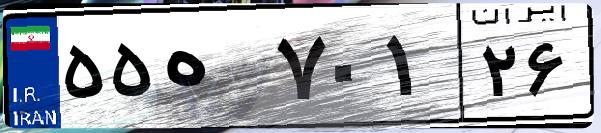0: (330, 28, 385, 110)
1: (385, 28, 445, 110)
2: (475, 38, 525, 113)
5: (57, 26, 110, 100), (110, 28, 158, 98)
6: (525, 38, 570, 115)
7: (270, 28, 330, 110)
ه: (158, 20, 270, 120)
